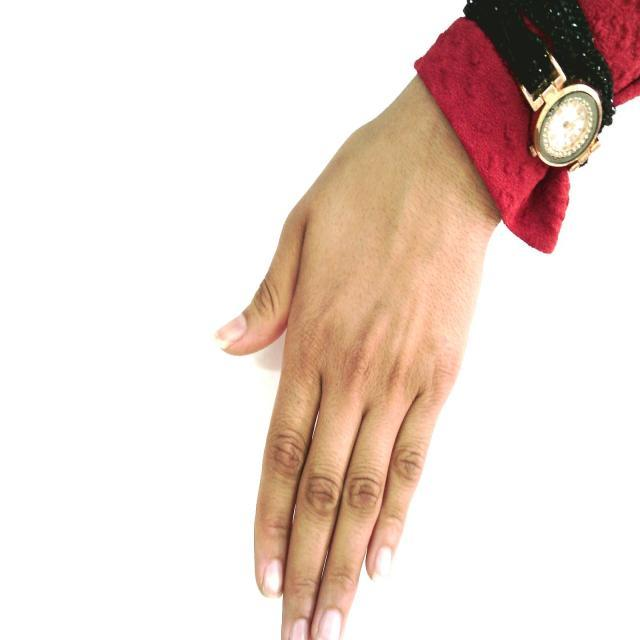Fingernail: (216, 315, 246, 346), (315, 608, 342, 639), (263, 560, 282, 596), (374, 546, 393, 578), (290, 619, 309, 639)
